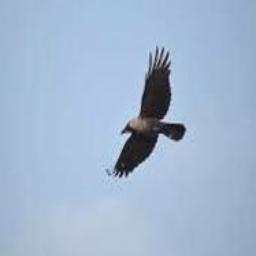Crow: (114, 46, 186, 178)
